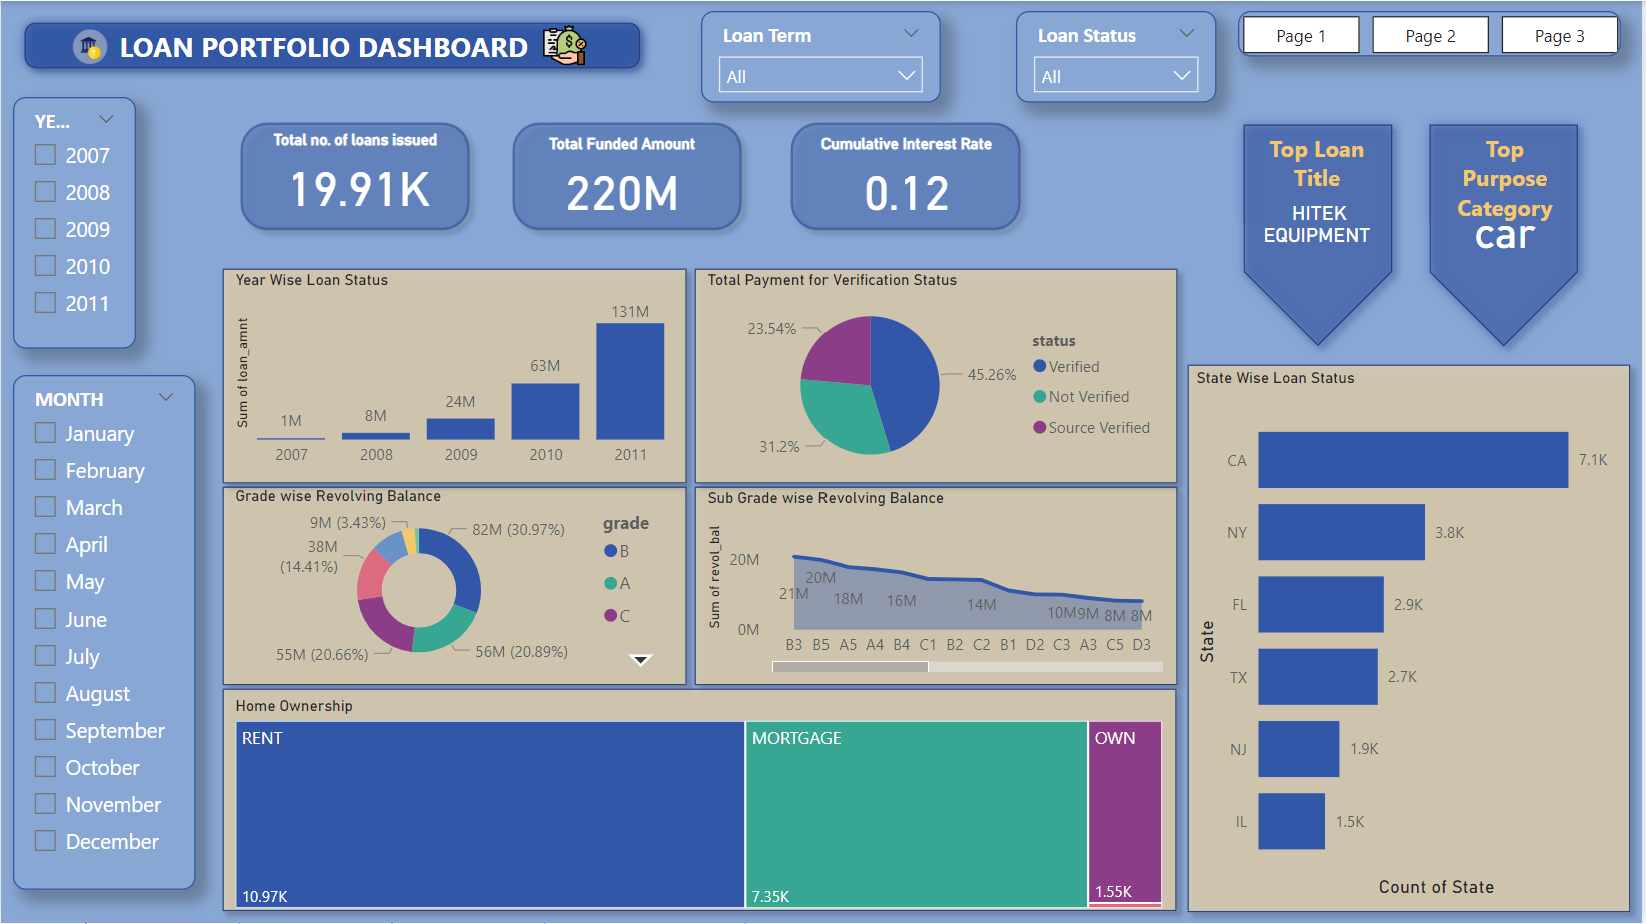

The page's visual inventory and layout, read from the dashboard file:
{"tool":"powerbi","page":{"name":"Dashboard","canvas":[1280,720],"ordinal":3},"visuals":[{"type":"shape","title":"BANK ANALYTICS","box":[9.2,8.5,498.7,53.7],"z":0},{"type":"shape","box":[178.7,86.4,197,102.1],"z":0,"group":"g3"},{"type":"shape","box":[390.7,86.4,197,102.1],"z":0,"group":"g4"},{"type":"shape","box":[607.3,86.4,197,102.1],"z":0,"group":"g5"},{"type":"shape","box":[960.2,87.3,134.2,191.1],"z":0,"group":"g6"},{"type":"shape","box":[1106.1,87.3,133.9,191.2],"z":0,"group":"g7"},{"type":"shape","box":[164.6,199.9,380.5,185.9],"z":0,"group":"g8"},{"type":"shape","box":[533.1,199.9,394.5,185.9],"z":0,"group":"g9"},{"type":"shape","box":[916.2,274.5,363.8,445.8],"z":0,"group":"g10"},{"type":"shape","box":[533.1,370.1,394.5,173.2],"z":0,"group":"g1"},{"type":"shape","box":[163.9,370.5,380.5,173.2],"z":0,"group":"g2"},{"type":"shape","box":[164.6,528.4,762.3,191.9],"z":0,"group":"g11"},{"type":"card","title":"Total no. of loans issued","fields":{"Values":["CountNonNull(lending_club.addr_state)"]},"box":[208.8,102.1,142.7,70],"z":1000,"group":"g3"},{"type":"card","title":"Top Purpose Category","fields":{"Values":["Min(lending_club.purpose)"]},"box":[1124,102.4,101.3,115.3],"z":1000,"group":"g7"},{"type":"card","title":"Top Loan Title","fields":{"Values":["Min(lending_club.title)"]},"box":[975.4,102.9,101.3,108.6],"z":1000,"group":"g6"},{"type":"card","title":"Total Funded Amount","fields":{"Values":["Sum(lending_club.funded_amnt)"]},"box":[396.6,105.4,176.7,70],"z":1000,"group":"g4"},{"type":"card","title":"Cumulative Interest Rate","fields":{"Values":["Avg(lending_club.int_rate)"]},"box":[613.2,105.4,185.8,70],"z":1000,"group":"g5"},{"type":"pieChart","title":"Total Payment for Verification Status","fields":{"Category":["lending_club.verification_status"],"Y":["Sum(lending_club.total_pymnt)"]},"box":[546.4,210.6,365.1,165.2],"z":1000,"group":"g9"},{"type":"columnChart","title":"Year Wise Loan Status","fields":{"Category":["lending_club.issue_d.Variation.Date Hierarchy.Year","lending_club.issue_d.Variation.Date Hierarchy.Quarter","lending_club.issue_d.Variation.Date Hierarchy.Month","lending_club.issue_d.Variation.Date Hierarchy.Day"],"Y":["Sum(lending_club.loan_amnt)"]},"box":[178.7,210.7,344.9,161.6],"z":1000,"group":"g8"},{"type":"clusteredBarChart","title":"State Wise Loan Status","fields":{"Category":["lending_club.addr_state"],"Y":["CountNonNull(lending_club.addr_state)"]},"box":[927.4,287,336.8,417.5],"z":1000,"group":"g10"},{"type":"group","id":"g1","title":"Group 8","box":[163.9,370.1,763.7,173.7],"z":1000},{"type":"group","id":"g2","title":"Group 7","box":[163.9,370.5,380.5,173.2],"z":1000,"group":"g1"},{"type":"donutChart","title":"Grade wise Revolving Balance","fields":{"Category":["lending_club.grade"],"Y":["Sum(lending_club.revol_bal)"]},"box":[178.6,380.5,353.8,147.9],"z":1000,"group":"g2"},{"type":"treemap","title":"Home Ownership","fields":{"Group":["lending_club.home_ownership"],"Values":["CountNonNull(lending_club.home_ownership)"]},"box":[178.6,543.7,733,169.9],"z":1000,"group":"g11"},{"type":"textbox","box":[87.3,16,471.8,46.6],"z":2000},{"type":"slicer","fields":{"Values":["lending_club.issue_d.Variation.Date Hierarchy.Year"]},"box":[9.3,74.6,96,196.6],"z":3000},{"type":"slicer","fields":{"Values":["lending_club.issue_d.Variation.Date Hierarchy.Month"]},"box":[9.2,291.9,142.7,401.8],"z":4000},{"type":"slicer","fields":{"Values":["lending_club.term"]},"box":[546.4,8.5,186.5,71.3],"z":5000},{"type":"slicer","fields":{"Values":["lending_club.loan_status"]},"box":[791.8,8.5,156.4,71.3],"z":6000},{"type":"group","id":"g3","title":"Group 1","box":[178.7,86.4,197,102.1],"z":7000},{"type":"group","id":"g4","title":"Group 2","box":[390.7,86.4,197,102.1],"z":8000},{"type":"group","id":"g5","title":"Group 3","box":[607.3,86.4,197,102.1],"z":9000},{"type":"group","id":"g6","title":"Group 4","box":[960.2,87.3,133.9,190.6],"z":10000},{"type":"group","id":"g7","title":"Group 4","box":[1106.1,87.3,133.9,191.2],"z":11000},{"type":"stackedAreaChart","title":"Sub Grade wise Revolving Balance","fields":{"Category":["lending_club.sub_grade"],"Y":["Sum(lending_club.revol_bal)"]},"box":[546.4,380.5,365.1,147.9],"z":12000},{"type":"group","id":"g8","title":"Group 5","box":[164.6,199.9,380.5,185.9],"z":13000},{"type":"group","id":"g9","title":"Group 6","box":[533.1,199.9,394.5,185.9],"z":14000},{"type":"group","id":"g10","title":"Group 10","box":[916.2,274.5,363.8,445.8],"z":15000},{"type":"group","id":"g11","title":"Group 9","box":[164.6,528.4,762.3,191.9],"z":16000},{"type":"image","box":[384.2,8.6,111.1,49.7],"z":17000},{"type":"image","box":[26.4,17.2,85.9,36.8],"z":18000},{"type":"pageNavigator","box":[965.2,8.5,299.1,35.3],"z":19000}]}

Visuals, with their boxes in screenshot pixels (x1, y1, x2, y2), scaled from the page's 1280x720 canvas onto the 1646x924 screenshot:
"BANK ANALYTICS" shape: <bbox>12, 11, 653, 80</bbox>
shape: <bbox>230, 111, 483, 242</bbox>
shape: <bbox>502, 111, 756, 242</bbox>
shape: <bbox>781, 111, 1034, 242</bbox>
shape: <bbox>1235, 112, 1407, 357</bbox>
shape: <bbox>1422, 112, 1595, 357</bbox>
shape: <bbox>212, 257, 701, 495</bbox>
shape: <bbox>686, 257, 1193, 495</bbox>
shape: <bbox>1178, 352, 1645, 923</bbox>
shape: <bbox>686, 475, 1193, 697</bbox>
shape: <bbox>211, 475, 700, 698</bbox>
shape: <bbox>212, 678, 1192, 923</bbox>
"Total no. of loans issued" card: <bbox>269, 131, 452, 221</bbox>
"Top Purpose Category" card: <bbox>1445, 131, 1576, 279</bbox>
"Top Loan Title" card: <bbox>1254, 132, 1385, 271</bbox>
"Total Funded Amount" card: <bbox>510, 135, 737, 225</bbox>
"Cumulative Interest Rate" card: <bbox>789, 135, 1027, 225</bbox>
"Total Payment for Verification Status" pieChart: <bbox>703, 270, 1172, 482</bbox>
"Year Wise Loan Status" columnChart: <bbox>230, 270, 673, 478</bbox>
"State Wise Loan Status" clusteredBarChart: <bbox>1193, 368, 1626, 904</bbox>
"Group 8" group: <bbox>211, 475, 1193, 698</bbox>
"Group 7" group: <bbox>211, 475, 700, 698</bbox>
"Grade wise Revolving Balance" donutChart: <bbox>230, 488, 685, 678</bbox>
"Home Ownership" treemap: <bbox>230, 698, 1172, 916</bbox>
textbox: <bbox>112, 21, 719, 80</bbox>
slicer - lending_club.issue_d.Variation.Date Hierarchy.Year: <bbox>12, 96, 135, 348</bbox>
slicer - lending_club.issue_d.Variation.Date Hierarchy.Month: <bbox>12, 375, 195, 890</bbox>
slicer - lending_club.term: <bbox>703, 11, 942, 102</bbox>
slicer - lending_club.loan_status: <bbox>1018, 11, 1219, 102</bbox>
"Group 1" group: <bbox>230, 111, 483, 242</bbox>
"Group 2" group: <bbox>502, 111, 756, 242</bbox>
"Group 3" group: <bbox>781, 111, 1034, 242</bbox>
"Group 4" group: <bbox>1235, 112, 1407, 357</bbox>
"Group 4" group: <bbox>1422, 112, 1595, 357</bbox>
"Sub Grade wise Revolving Balance" stackedAreaChart: <bbox>703, 488, 1172, 678</bbox>
"Group 5" group: <bbox>212, 257, 701, 495</bbox>
"Group 6" group: <bbox>686, 257, 1193, 495</bbox>
"Group 10" group: <bbox>1178, 352, 1645, 923</bbox>
"Group 9" group: <bbox>212, 678, 1192, 923</bbox>
image: <bbox>494, 11, 637, 75</bbox>
image: <bbox>34, 22, 144, 69</bbox>
pageNavigator: <bbox>1241, 11, 1626, 56</bbox>
